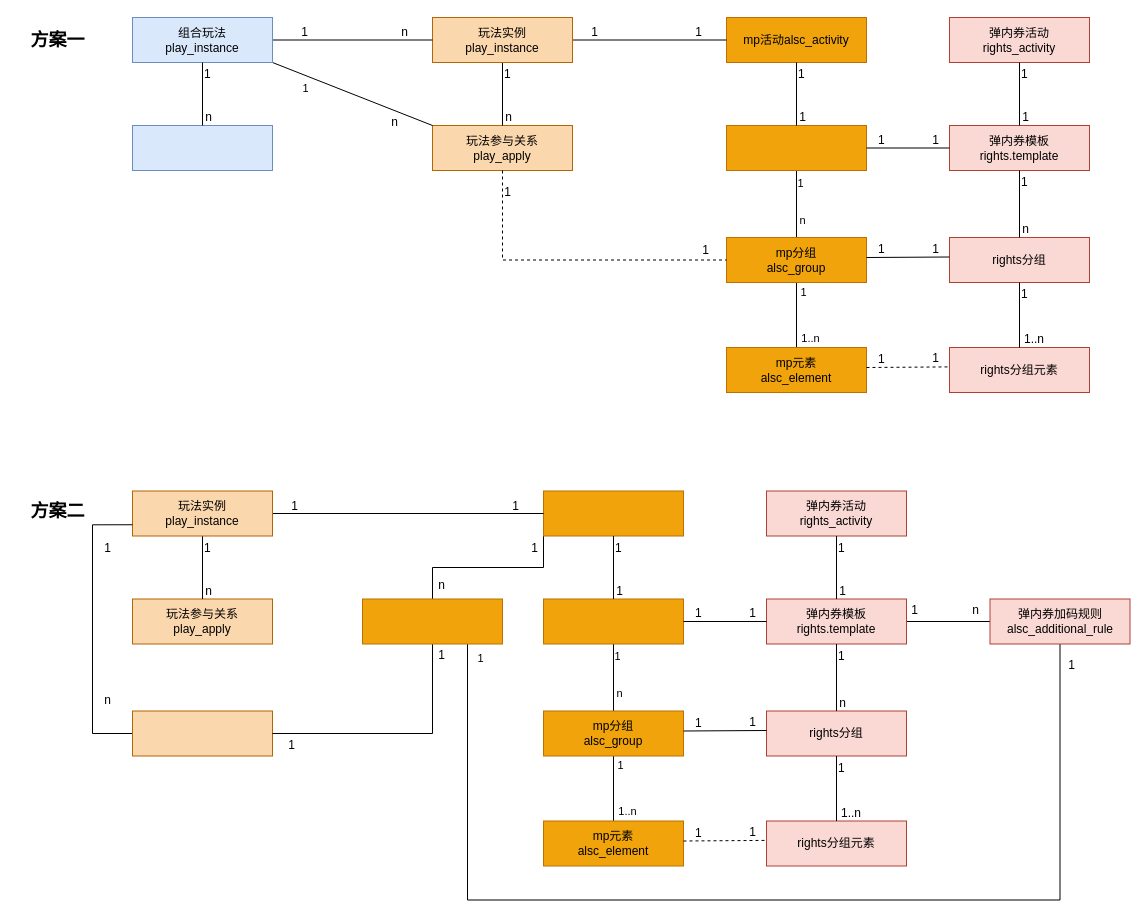
This 1147x919 diagram has some shape labels left out. Here are the shapes that lost their labels. From the top down, the centre of each, then its label:
the point at 202,147: 组合关系 play_relation
the point at 796,147: mp优惠alsc_promo
the point at 613,513: mp活动 alsc_activity
the point at 432,621: mp加码规则 alsc_rule
the point at 613,621: mp优惠 alsc_promo
the point at 202,733: 玩法加码规则 play_rule
